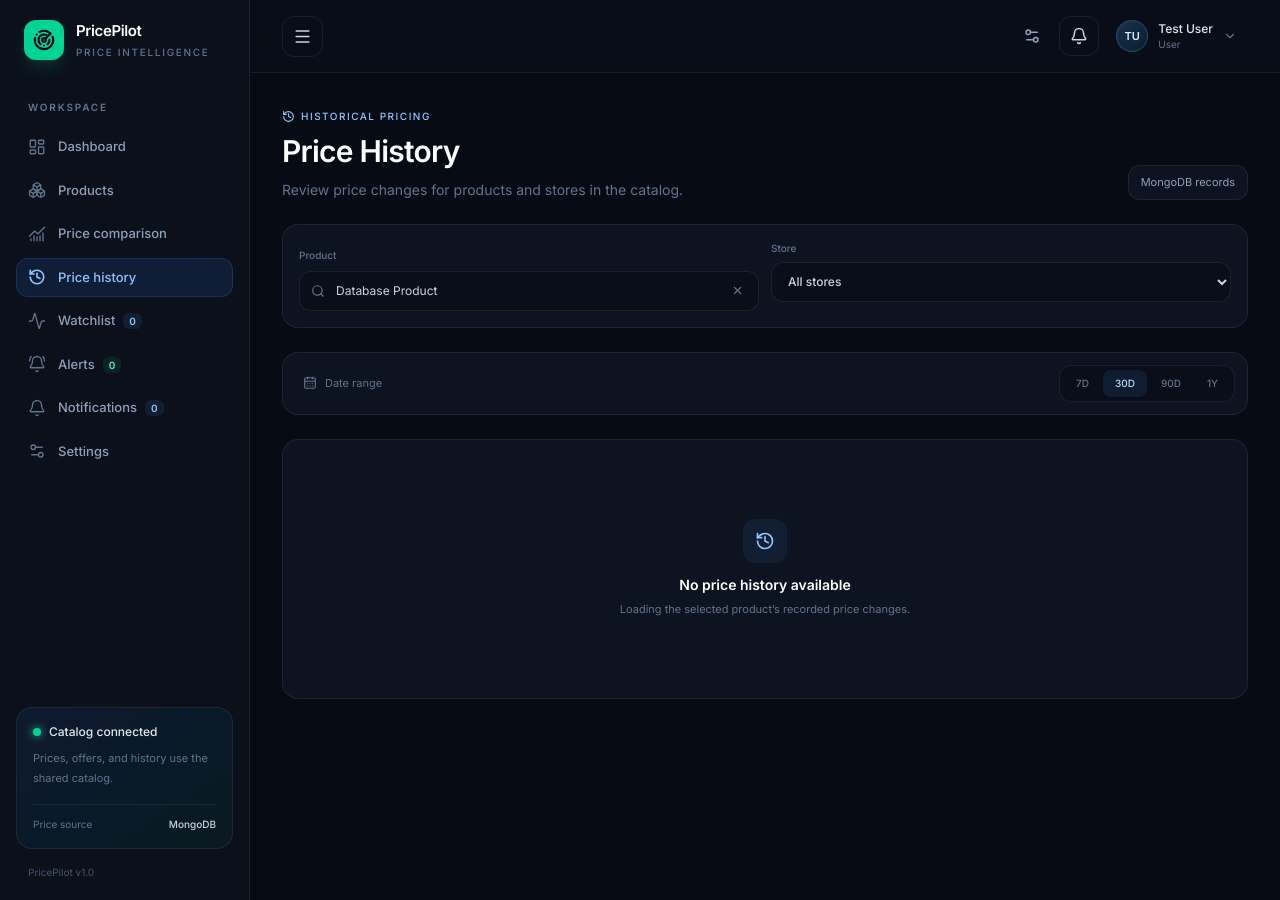
Test: Price History page › shows no-results and clears the selected product
The image size is (1280, 900).
Replace the text in the dropdown labelled "Product" with "not-a-real-product" at (529, 291), box [299, 271, 759, 311]
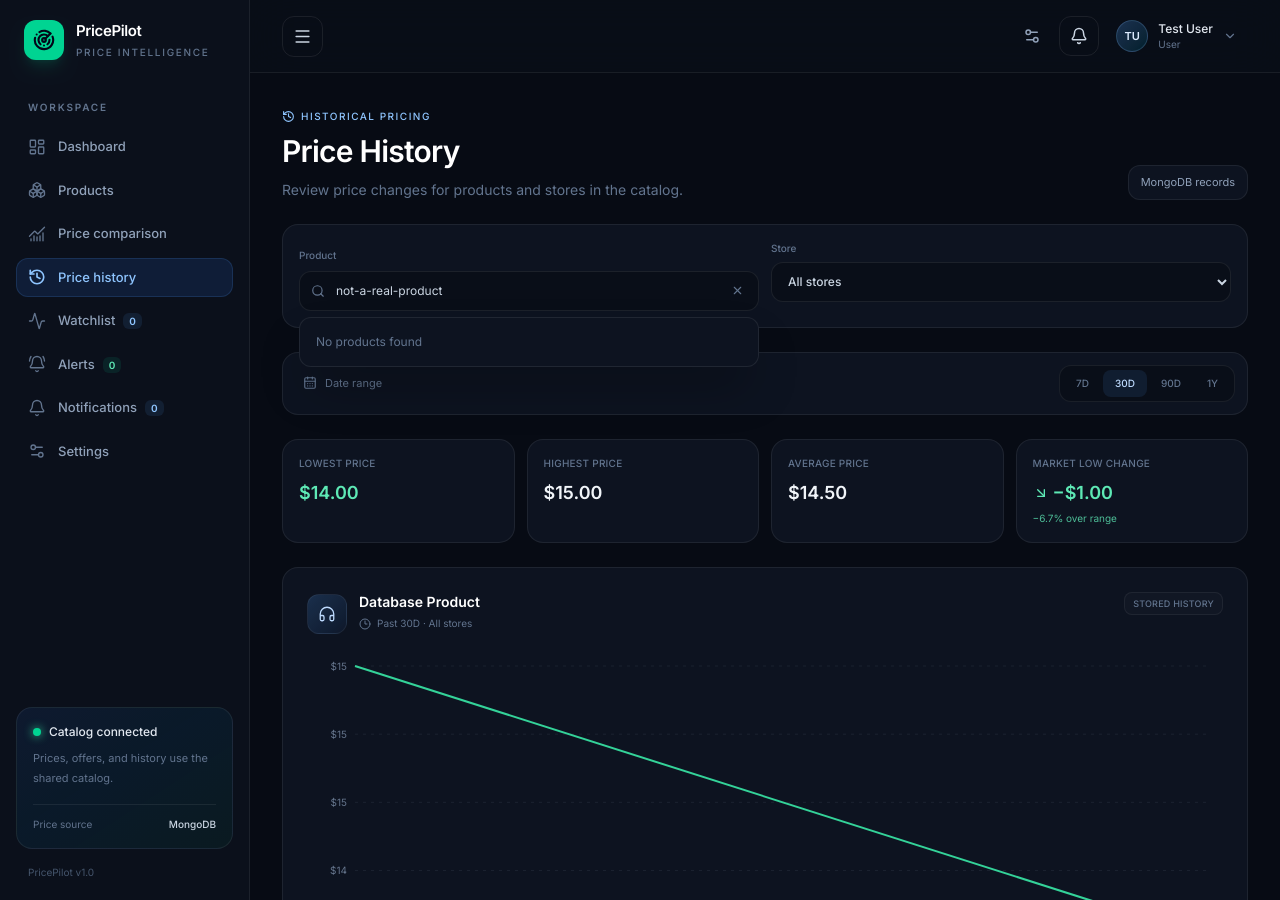
Check: the text "No products found" is shown, box [316, 334, 422, 349]
Click the button named "Clear selected product" at (737, 291), box [723, 277, 751, 305]
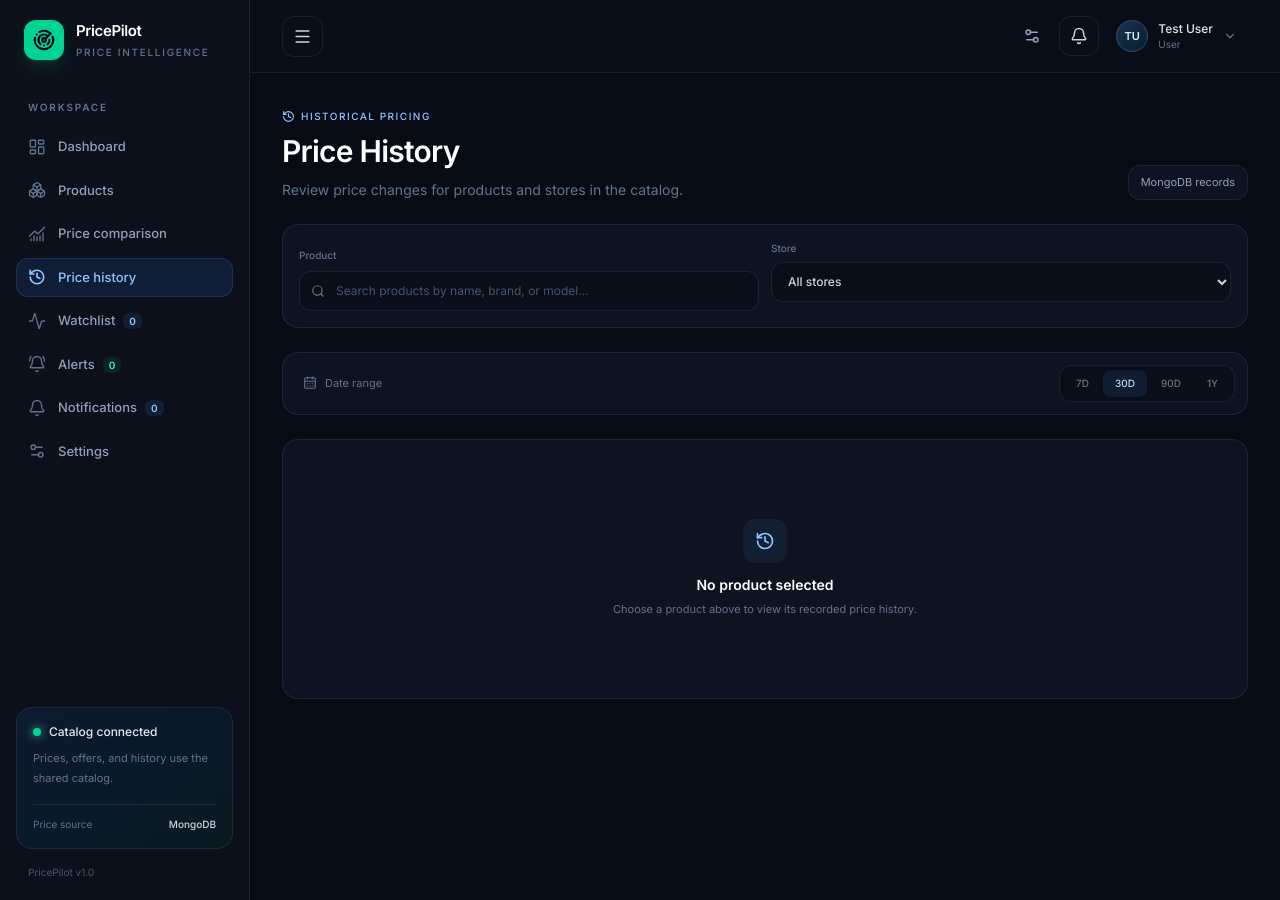
Check: the dropdown labelled "Product" is empty, box [299, 271, 759, 311]
Check: the heading "No product selected" is shown, box [696, 575, 834, 595]
Check: the text "Choose a product above to view its recorded price history." is shown, box [613, 599, 917, 619]
